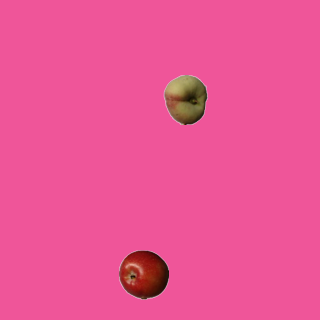Apple Braeburn: (118, 249, 168, 299)
Peach Flat: (160, 74, 210, 124)
